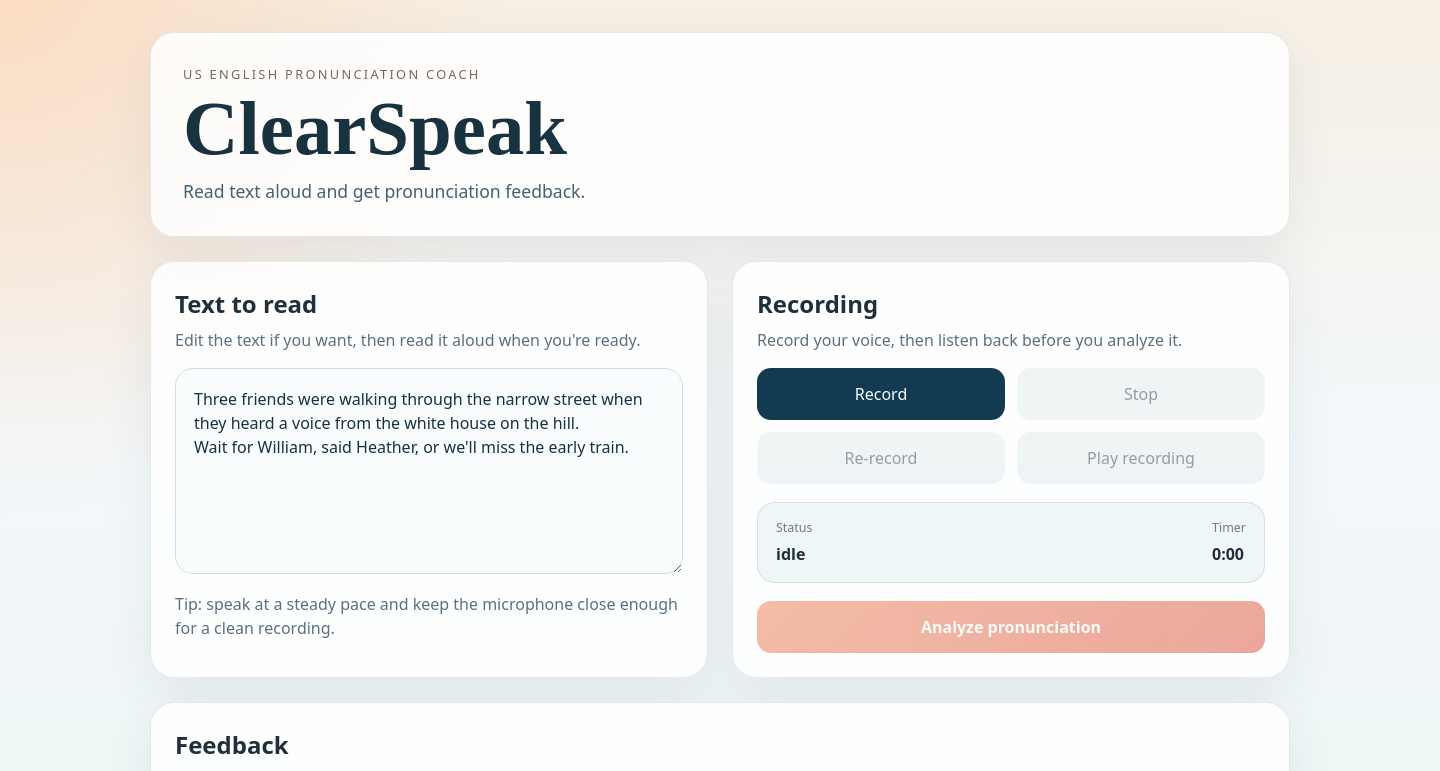
Scenario: shows a microphone permission error
Click the button "Record". click: (881, 394)
box: [757,368,1005,420]
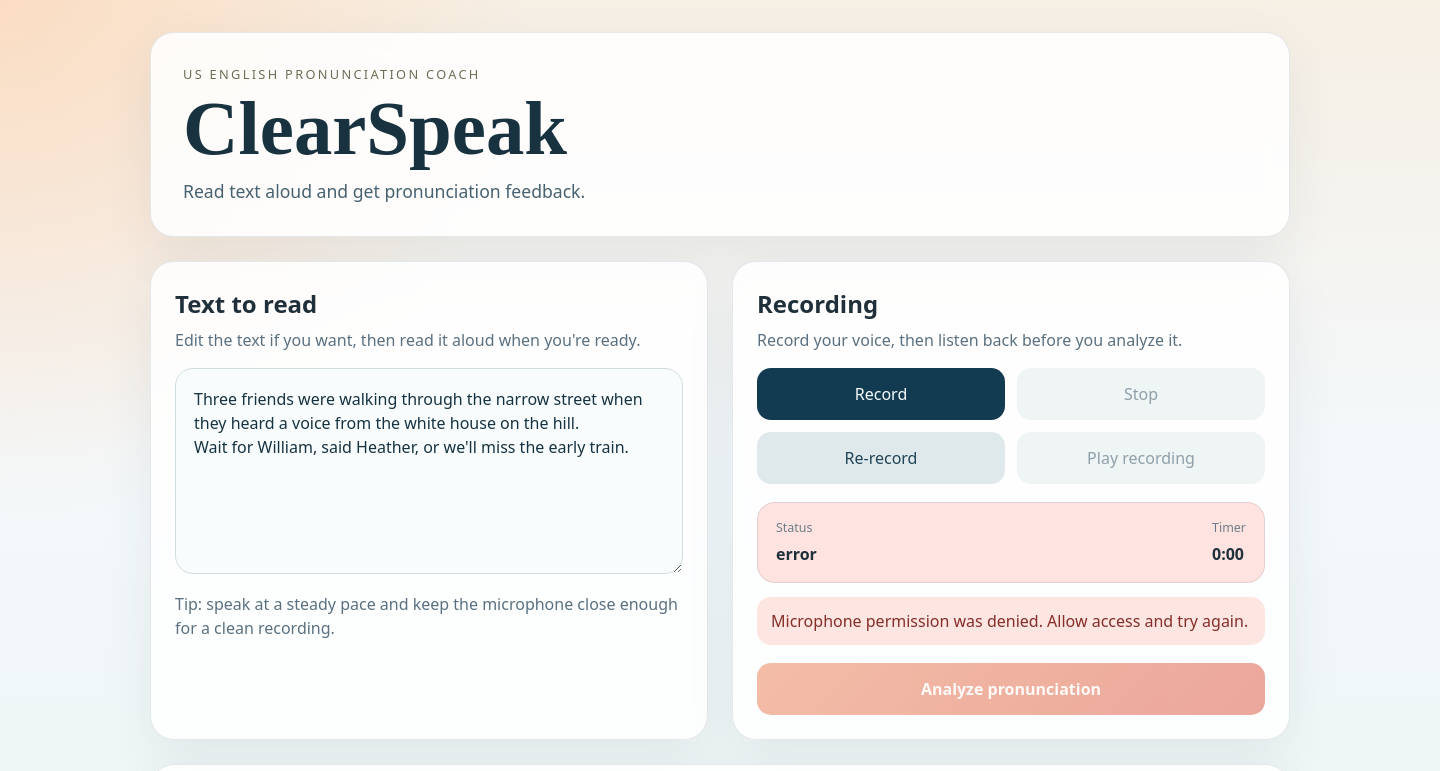
expect the text "Microphone permission was denied" is shown: met, box [771,610,1248,632]
